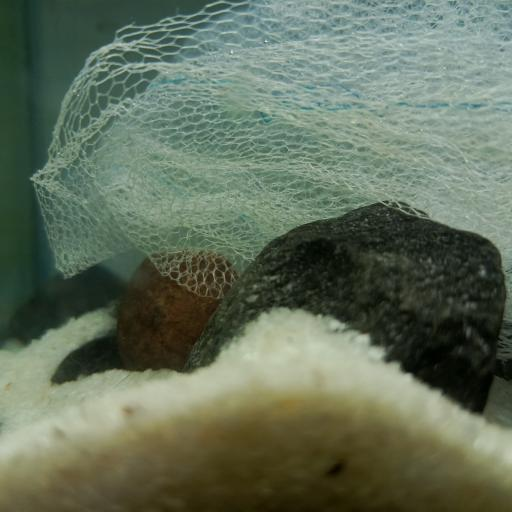net: (29, 0, 512, 304)
